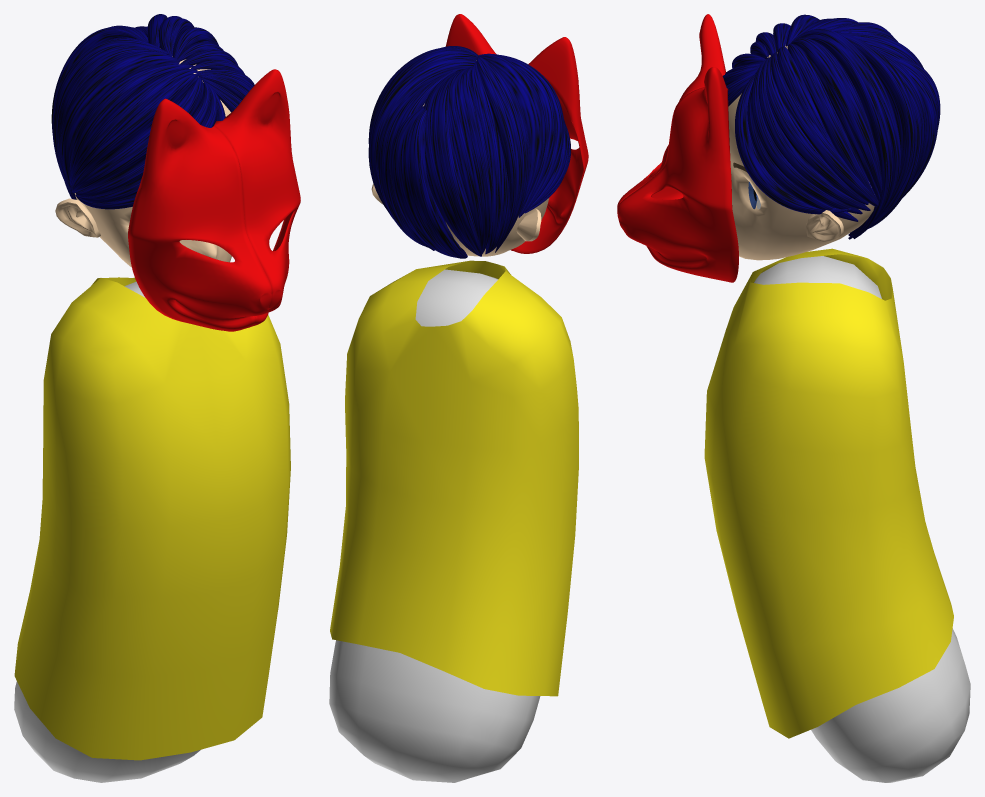
Rendered from Main NPC 4.fbx.
3 renders of one model, left to right at view 1: azimuth 30°, elevation 25°; view 2: azimuth 150°, elevation 25°; view 3: azimuth 270°, elevation 25°, orthographic. The views are drawn at different scales.
Visible parts, largest first — view 1: T-shirt.004, Cube, NurbsPath.083, body.004, Head with ears.004; view 2: T-shirt.004, NurbsPath.083, body.004, Cube, Head with ears.004; view 3: T-shirt.004, NurbsPath.083, Cube, body.004, Head with ears.004.
Part boxes in pixels (x1=…): T-shirt.004: x1=14, y1=277, x2=290, y2=760; Cube: x1=128, y1=69, x2=300, y2=331; NurbsPath.083: x1=51, y1=14, x2=254, y2=209; body.004: x1=14, y1=281, x2=200, y2=782; Head with ears.004: x1=55, y1=56, x2=231, y2=267; T-shirt.004: x1=330, y1=260, x2=578, y2=696; NurbsPath.083: x1=368, y1=46, x2=571, y2=258; body.004: x1=329, y1=269, x2=540, y2=782; Cube: x1=446, y1=14, x2=588, y2=253; Head with ears.004: x1=371, y1=60, x2=549, y2=256; T-shirt.004: x1=704, y1=248, x2=953, y2=738; NurbsPath.083: x1=722, y1=14, x2=940, y2=239; Cube: x1=617, y1=14, x2=738, y2=282; body.004: x1=754, y1=256, x2=970, y2=782; Head with ears.004: x1=728, y1=45, x2=874, y2=260.
Bounding box in the file's own units: 268 × 884 × 381.
